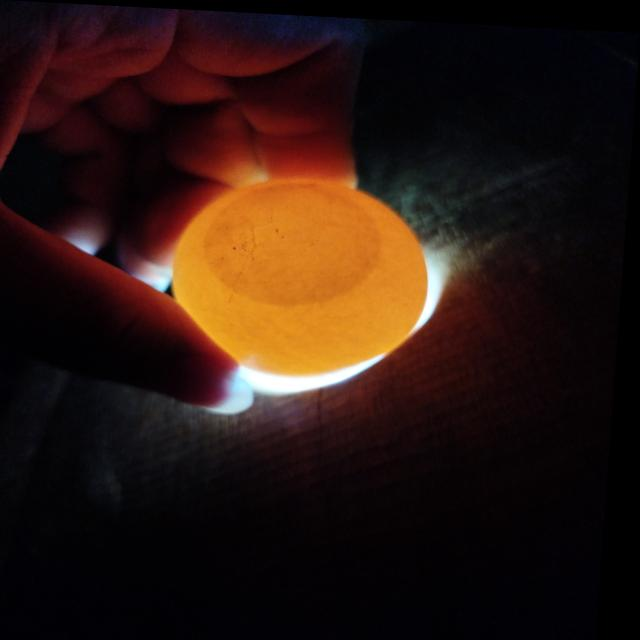Camara de Ar: (208, 179, 385, 303)
